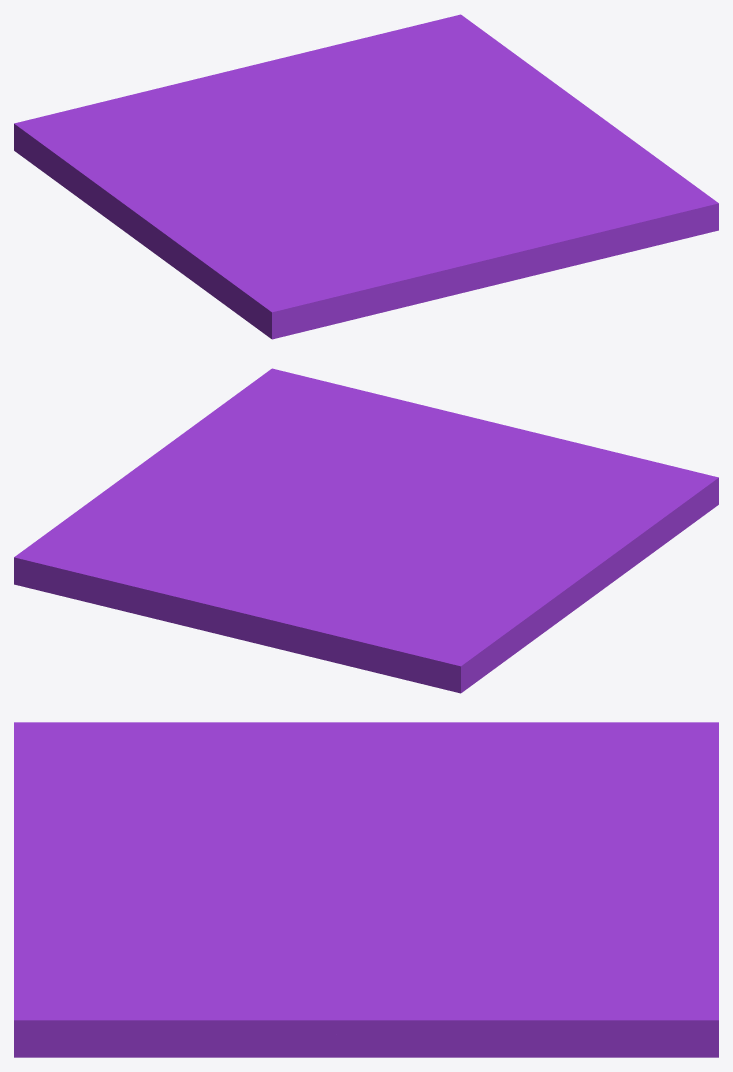
The model's file is Glass_106_chunks.fbx.
The picture shows the model from 3 angles, top to bottom: view 1: azimuth 30°, elevation 25°; view 2: azimuth 150°, elevation 25°; view 3: azimuth 270°, elevation 25°; orthographic projection. The views are drawn at different scales.
Parts seen in each view (by area): view 1: Glass_106_1, Glass_106_2, Glass_106_4, Glass_106_6, Glass_106_3, Glass_106_0, Glass_106_5; view 2: Glass_106_2, Glass_106_1, Glass_106_4, Glass_106_6, Glass_106_3, Glass_106_0, Glass_106_5; view 3: Glass_106_2, Glass_106_1, Glass_106_4, Glass_106_6, Glass_106_3, Glass_106_5, Glass_106_0.
Part boxes in pixels (<box>): Glass_106_1: <box>129,176,591,339</box>; Glass_106_2: <box>14,30,395,234</box>; Glass_106_4: <box>370,14,540,150</box>; Glass_106_6: <box>484,101,718,244</box>; Glass_106_3: <box>369,140,661,261</box>; Glass_106_0: <box>312,155,481,202</box>; Glass_106_5: <box>519,73,579,110</box>; Glass_106_2: <box>79,520,581,693</box>; Glass_106_1: <box>389,401,718,608</box>; Glass_106_4: <box>14,486,339,600</box>; Glass_106_6: <box>133,368,347,487</box>; Glass_106_3: <box>260,387,405,521</box>; Glass_106_0: <box>349,455,420,530</box>; Glass_106_5: <box>94,470,182,498</box>; Glass_106_2: <box>367,722,718,976</box>; Glass_106_1: <box>14,722,389,930</box>; Glass_106_4: <box>352,881,718,1057</box>; Glass_106_6: <box>14,946,408,1057</box>; Glass_106_3: <box>14,878,397,969</box>; Glass_106_5: <box>245,983,550,1057</box>; Glass_106_0: <box>177,835,386,902</box>.
Bounding box in the file's own units: 1536 × 89.14 × 1536.
